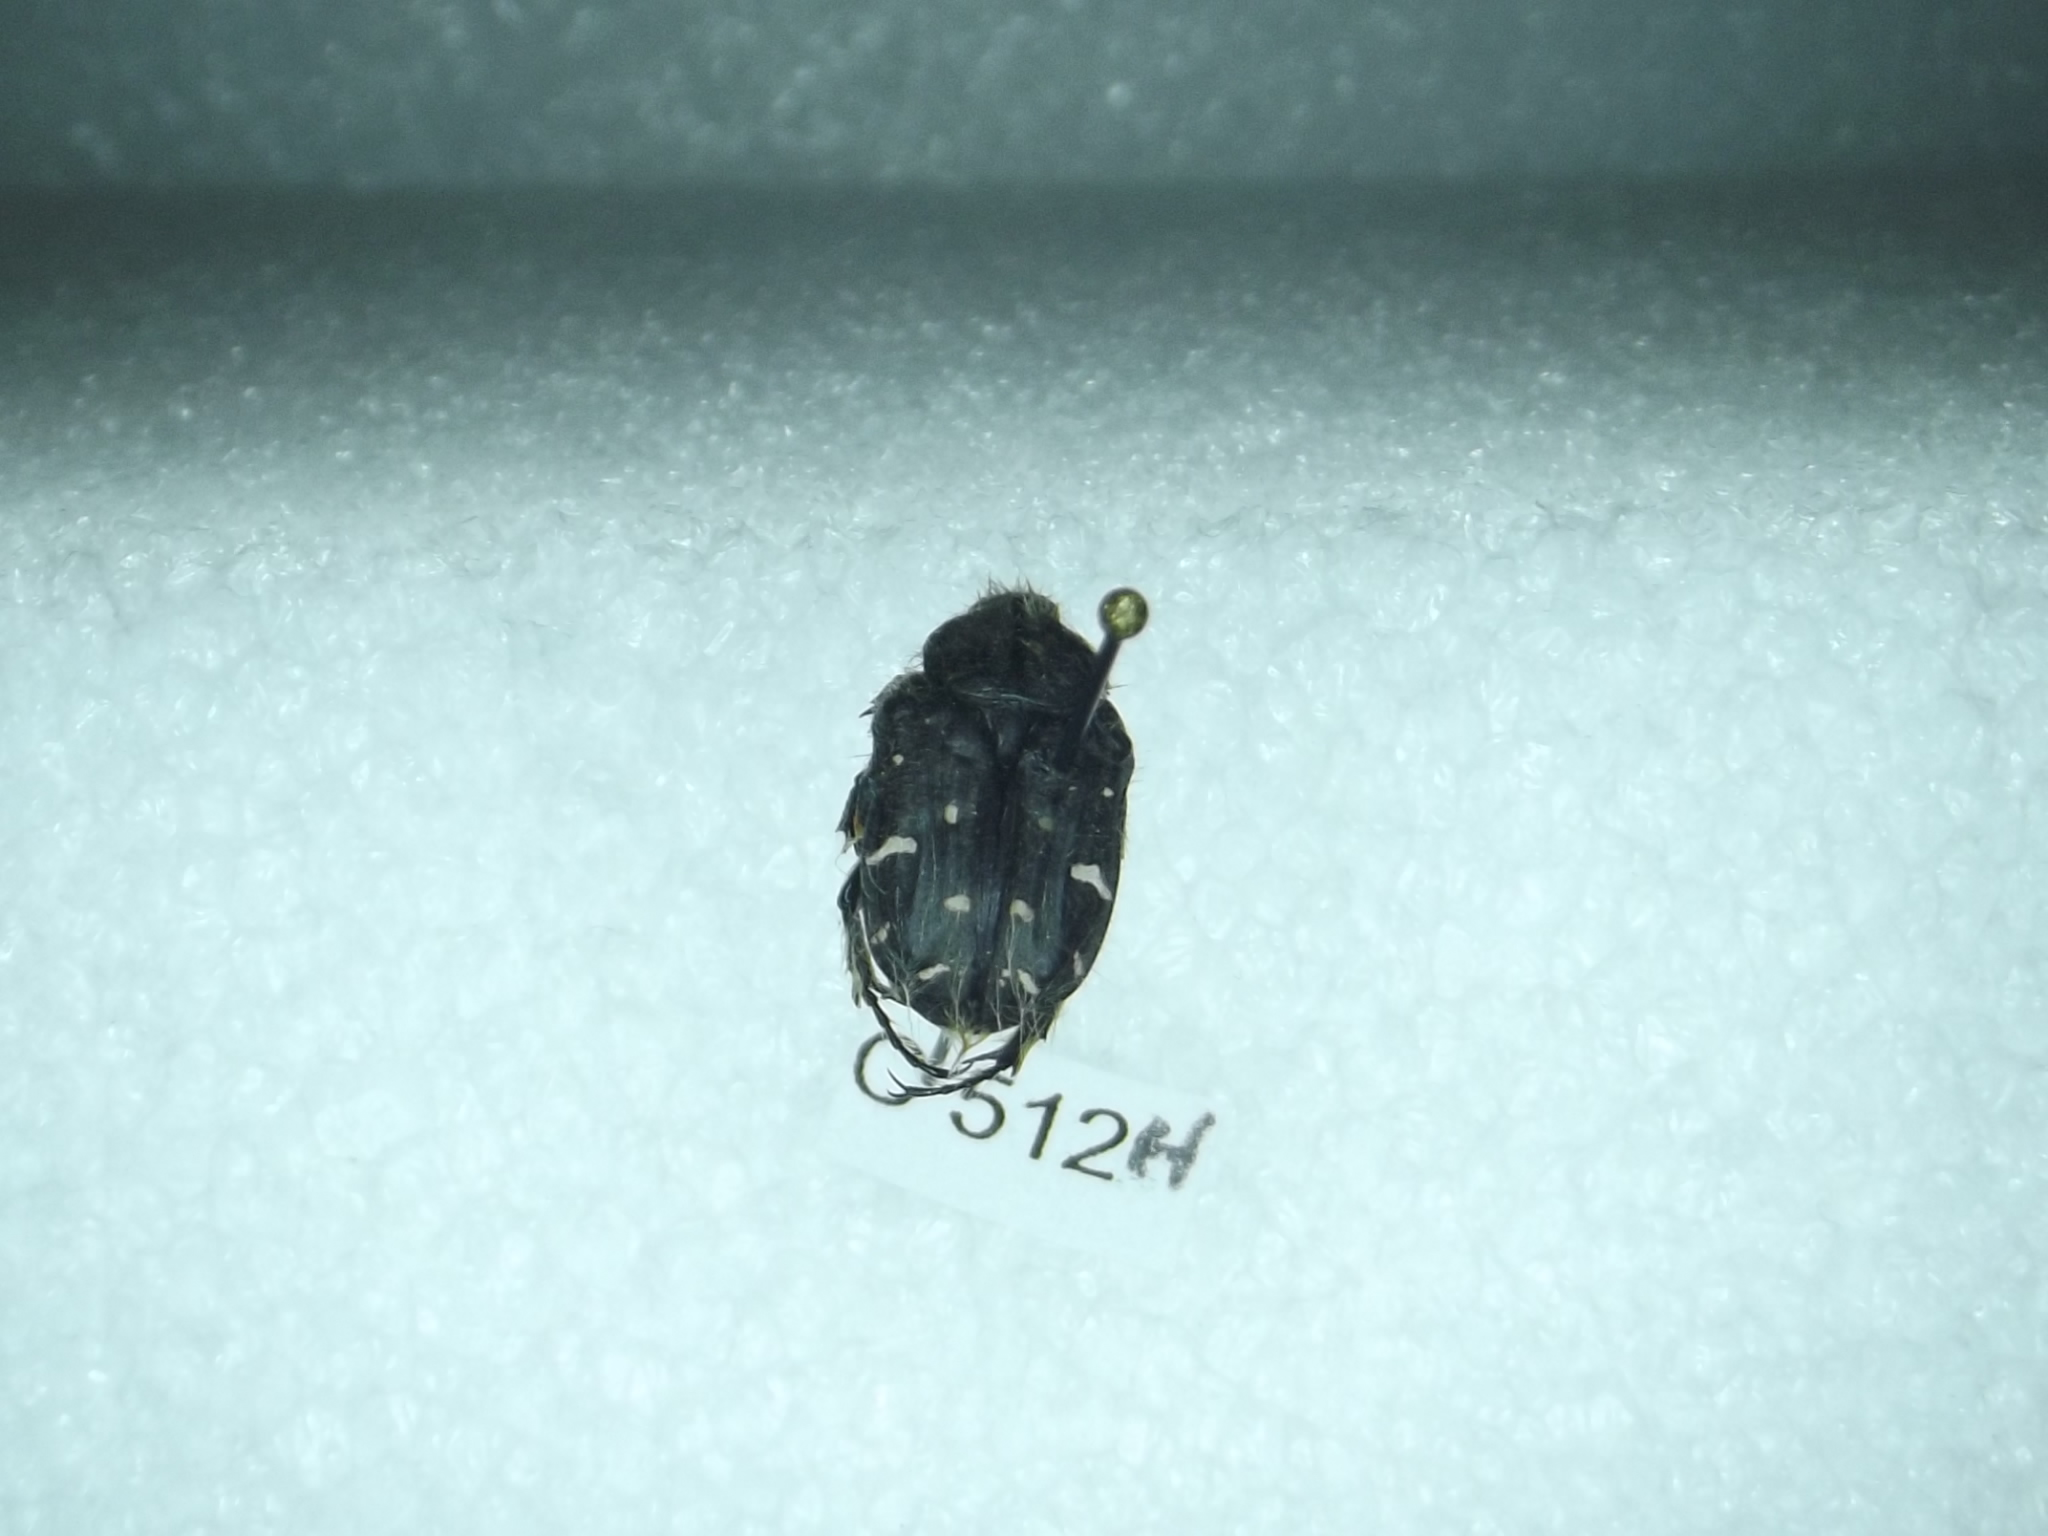Tropinota_senicula: (818, 566, 1169, 1121)
